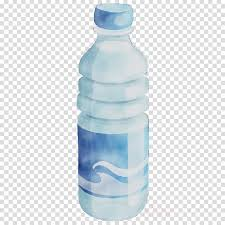unavailable: (76, 3, 149, 222)
